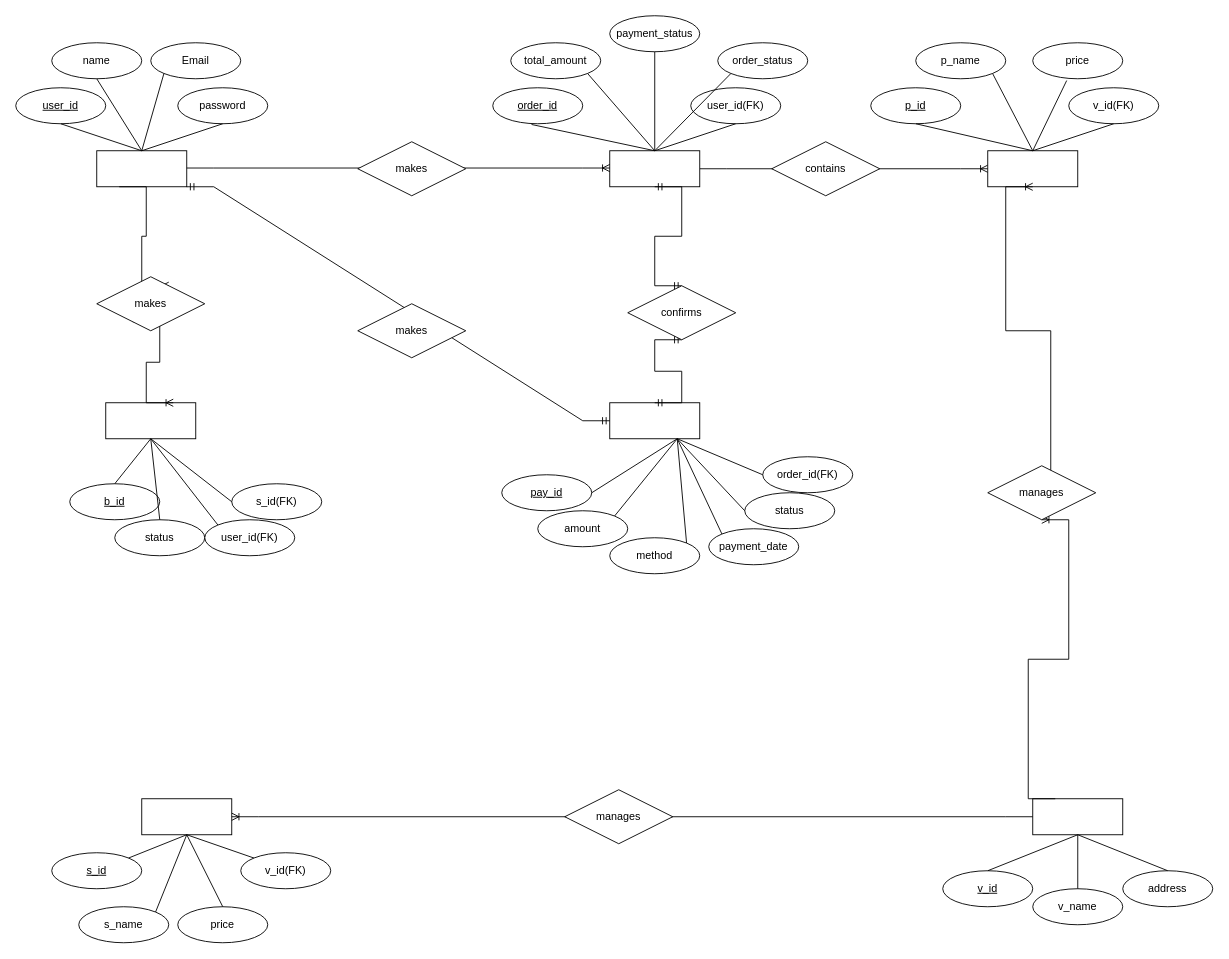
The diagram is 1229 pixels wide and 959 high, and some of its shapes have lost their labels. Here are the shapes that lost their labels. From the top down, the centre of each, then its label:
At point (141, 168): "User".
At point (654, 168): "Order".
At point (1032, 168): "Product".
At point (150, 420): "Booking".
At point (654, 420): "Payment".
At point (186, 816): "Service".
At point (1077, 816): "Vendor".
